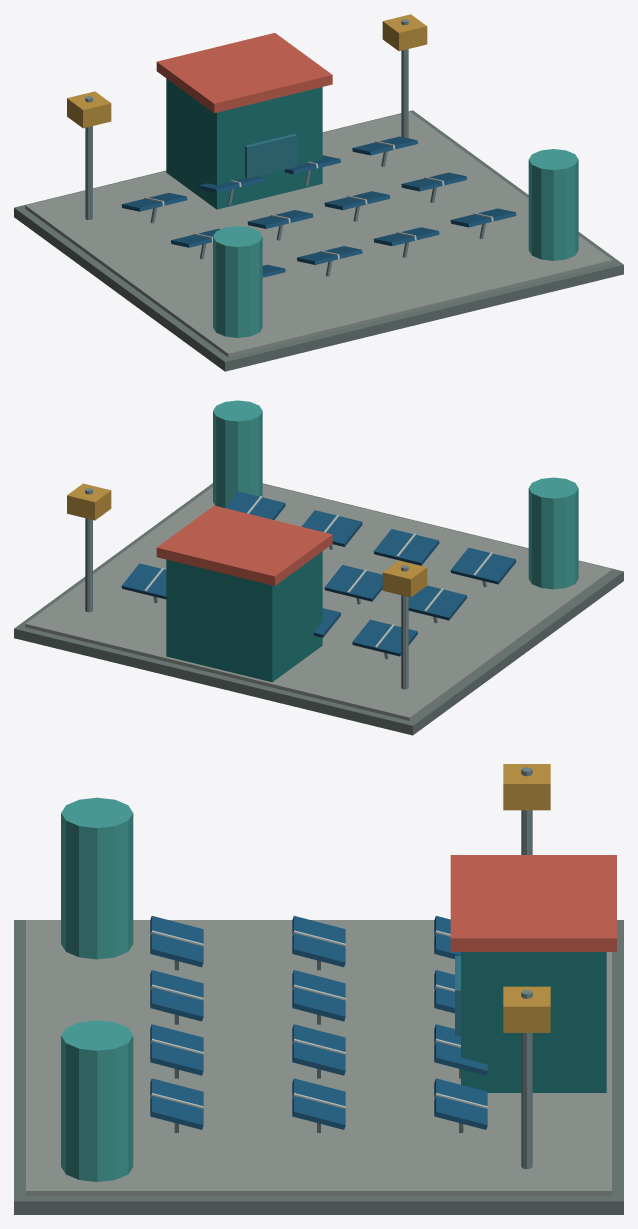
The model's file is solar_lv4.glb.
3 renders of one model, top to bottom at view 1: azimuth 30°, elevation 25°; view 2: azimuth 150°, elevation 25°; view 3: azimuth 270°, elevation 25°, orthographic. The views are drawn at different scales.
Visible parts, largest first — view 1: rough, metallic, glossy; view 2: rough, metallic; view 3: rough, metallic.
Boxes of the visible parts, bbox=[...] form: rough: bbox=[14, 14, 623, 371]; metallic: bbox=[85, 19, 516, 277]; glossy: bbox=[245, 133, 296, 178]; rough: bbox=[14, 400, 623, 735]; metallic: bbox=[85, 488, 516, 689]; rough: bbox=[14, 764, 623, 1214]; metallic: bbox=[150, 767, 532, 1168].
Bounding box in the file's own units: 9.6 × 3.08 × 8.8.
